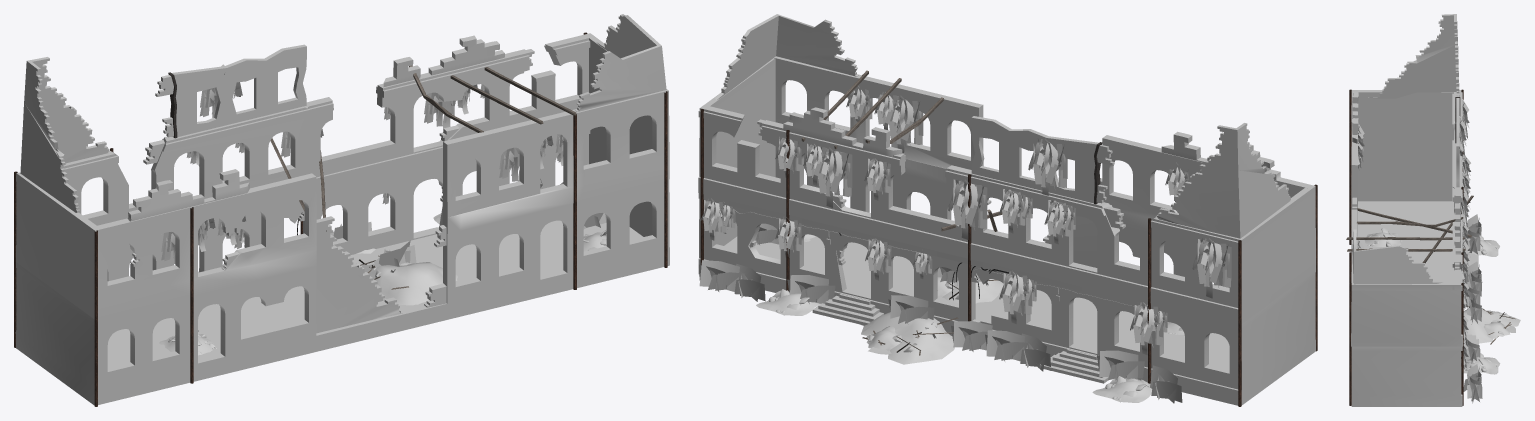
The model's file is long_house_blue_LOD0.fbx.
The picture shows the model from 3 angles, left to right: view 1: azimuth 30°, elevation 25°; view 2: azimuth 150°, elevation 25°; view 3: azimuth 270°, elevation 25°; orthographic projection. The views are drawn at different scales.
Parts seen in each view (by area): view 1: long_house_blue_LOD0; view 2: long_house_blue_LOD0; view 3: long_house_blue_LOD0.
Boxes of the visible parts, left/top/right/bottom form: long_house_blue_LOD0: left=14, top=14, right=669, bottom=406; long_house_blue_LOD0: left=698, top=14, right=1317, bottom=406; long_house_blue_LOD0: left=1346, top=14, right=1520, bottom=406.
Bounding box in the file's own units: 25.38 × 12.36 × 9.59.
